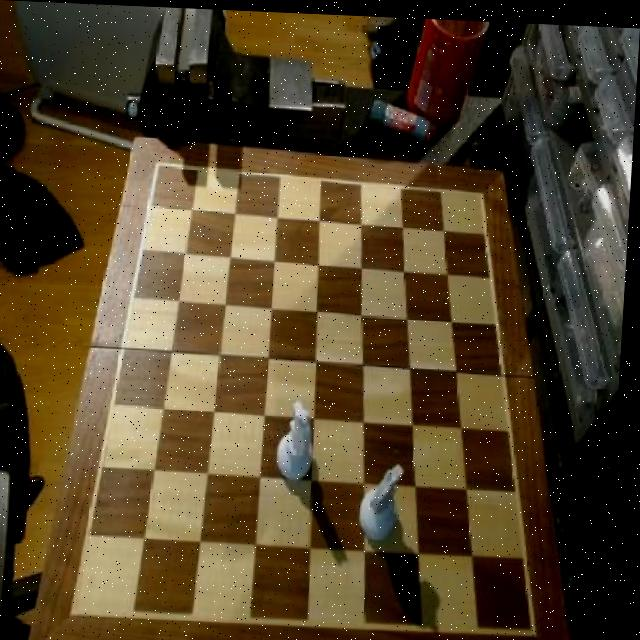white-king: (361, 457, 412, 540), (277, 395, 324, 484)
